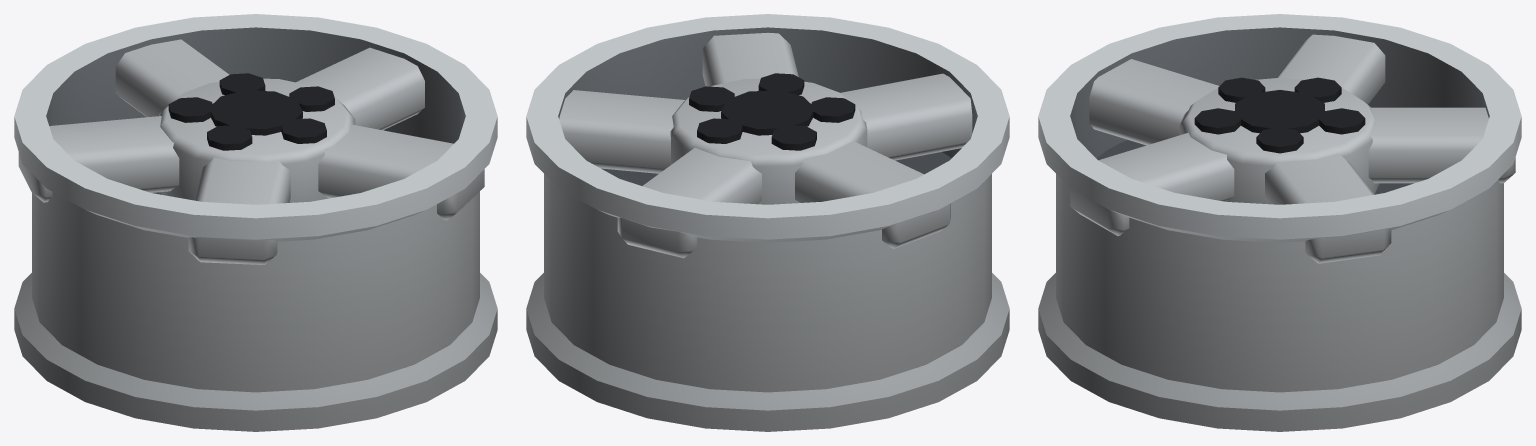
The model's file is Rim_01.glb.
3 renders of one model, left to right at view 1: azimuth 30°, elevation 25°; view 2: azimuth 150°, elevation 25°; view 3: azimuth 270°, elevation 25°, orthographic.
Parts seen in each view (by area): view 1: SM_Rim_01; view 2: SM_Rim_01; view 3: SM_Rim_01.
Boxes of the visible parts, bbox=[...] form: SM_Rim_01: bbox=[14, 14, 497, 431]; SM_Rim_01: bbox=[526, 14, 1009, 431]; SM_Rim_01: bbox=[1038, 14, 1521, 431].
Bounding box in the file's own units: 0.41 × 0.206 × 0.41.
1 material, 1 textured.
